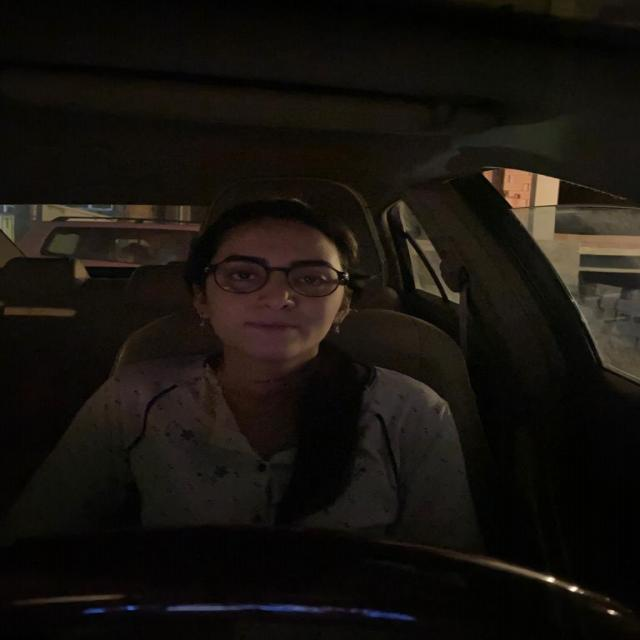person: (177, 194, 377, 381)
